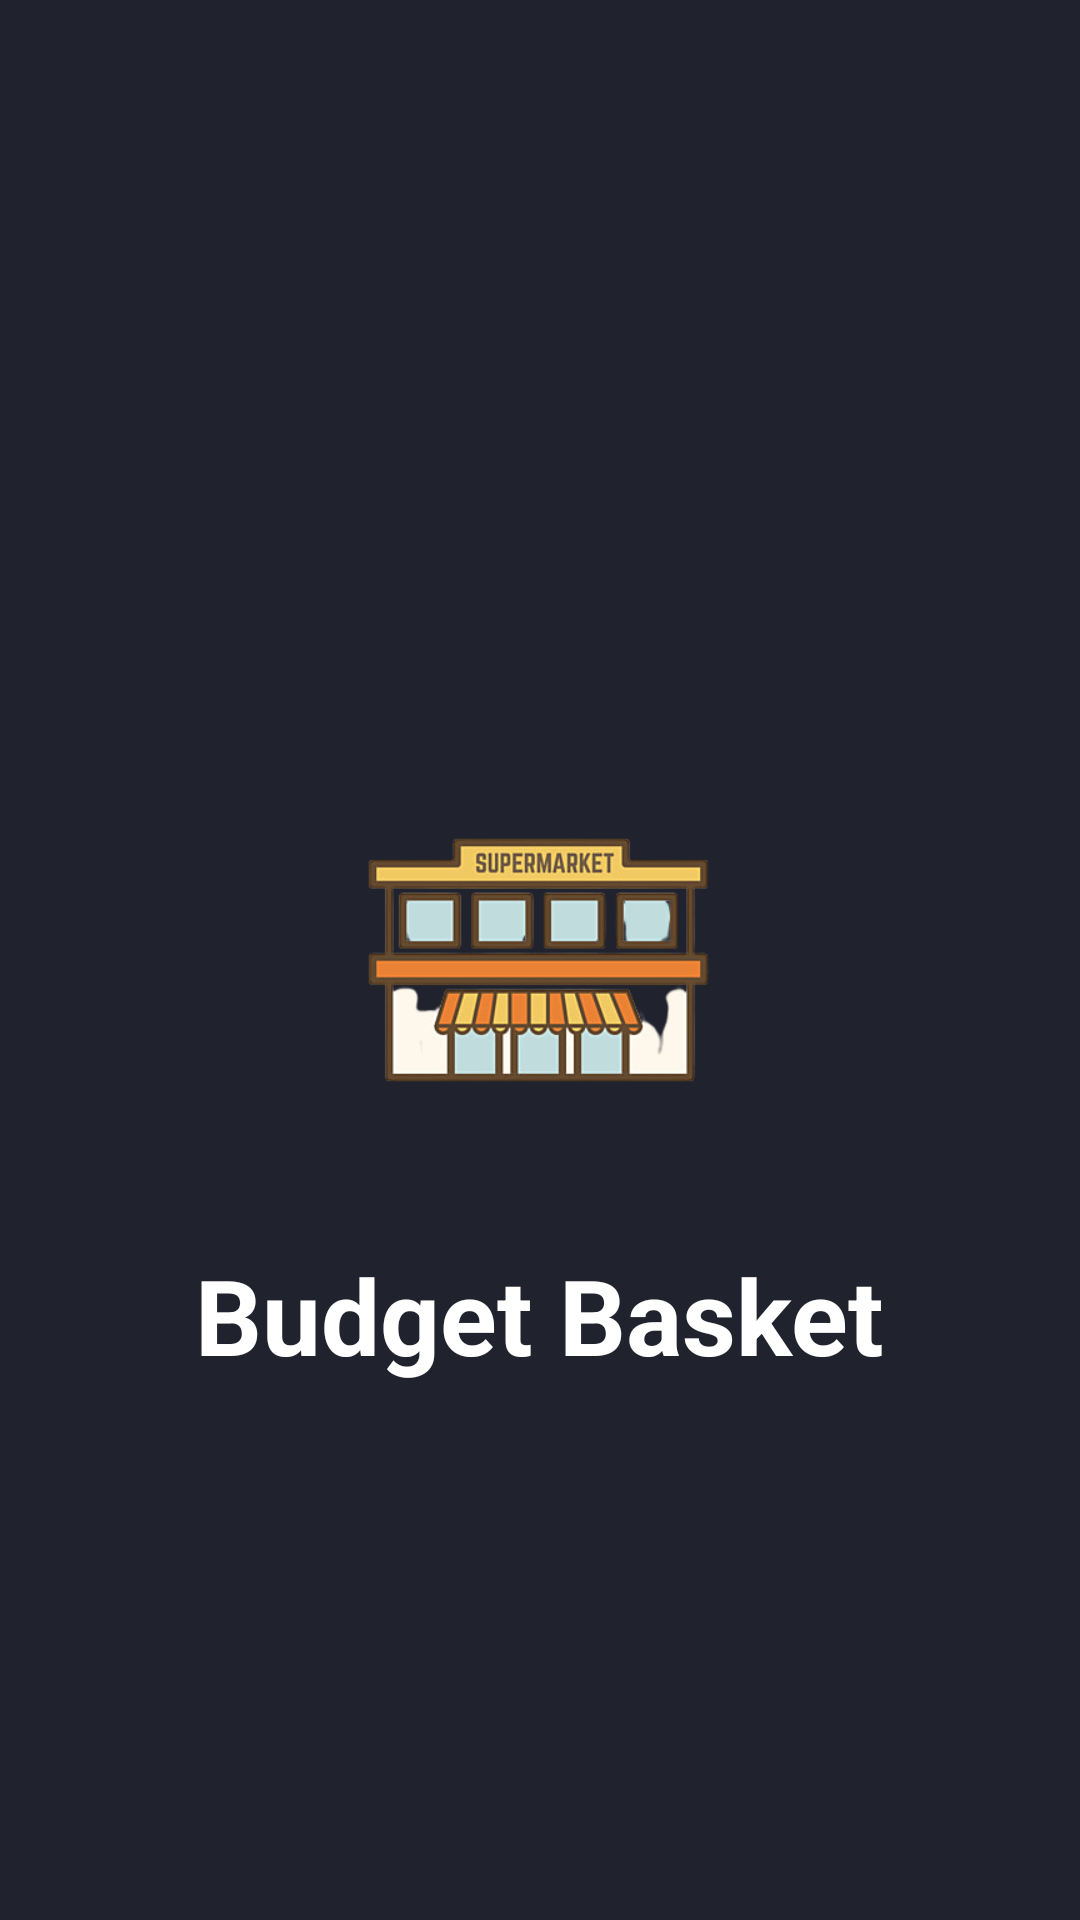

Locate icon controls on the screen. Image size 1080px×1920px, boxes as (x1,y1,x2,y2).
grocerynobg: (369,839,708,1081)
